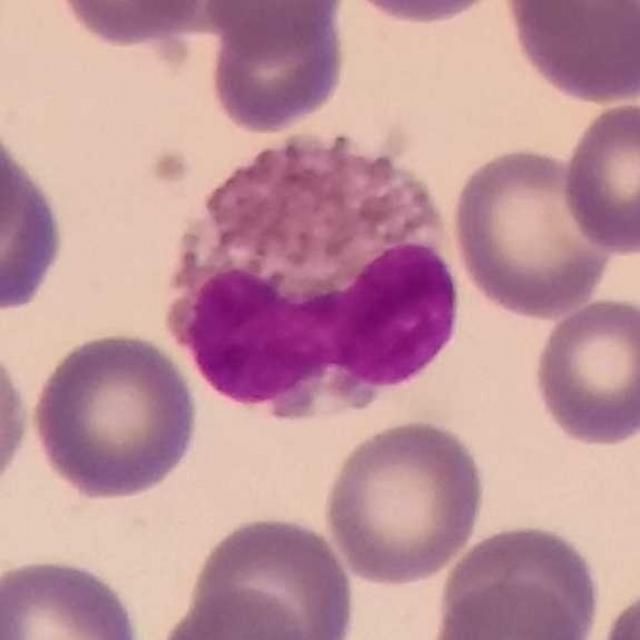Eosinophil: (142, 114, 476, 428)
Platelets: (141, 141, 198, 191), (153, 29, 197, 72)
RBC: (26, 327, 202, 503), (446, 142, 620, 320), (320, 415, 490, 588), (180, 511, 360, 640), (433, 517, 603, 639), (205, 4, 349, 137), (528, 294, 640, 451), (498, 0, 640, 107), (557, 95, 640, 258), (0, 130, 70, 317), (0, 552, 147, 640), (152, 584, 318, 640), (208, 0, 356, 55), (49, 0, 215, 49), (0, 333, 35, 506), (334, 0, 514, 27), (592, 579, 640, 640)
